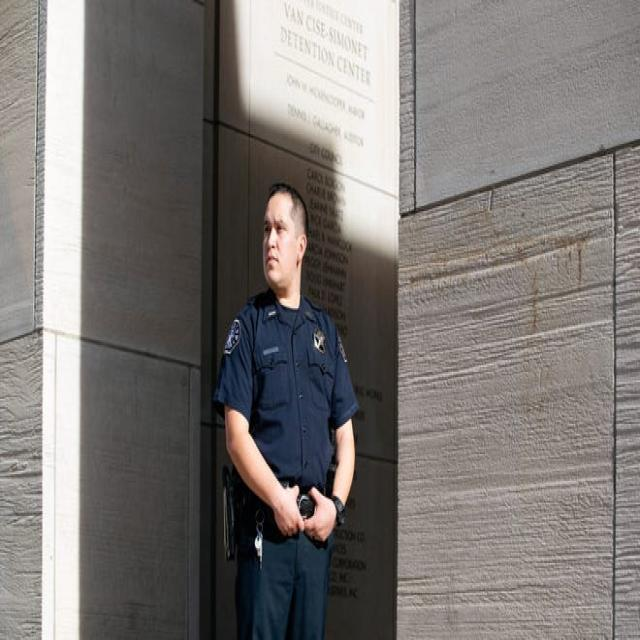police: (209, 152, 367, 640)
